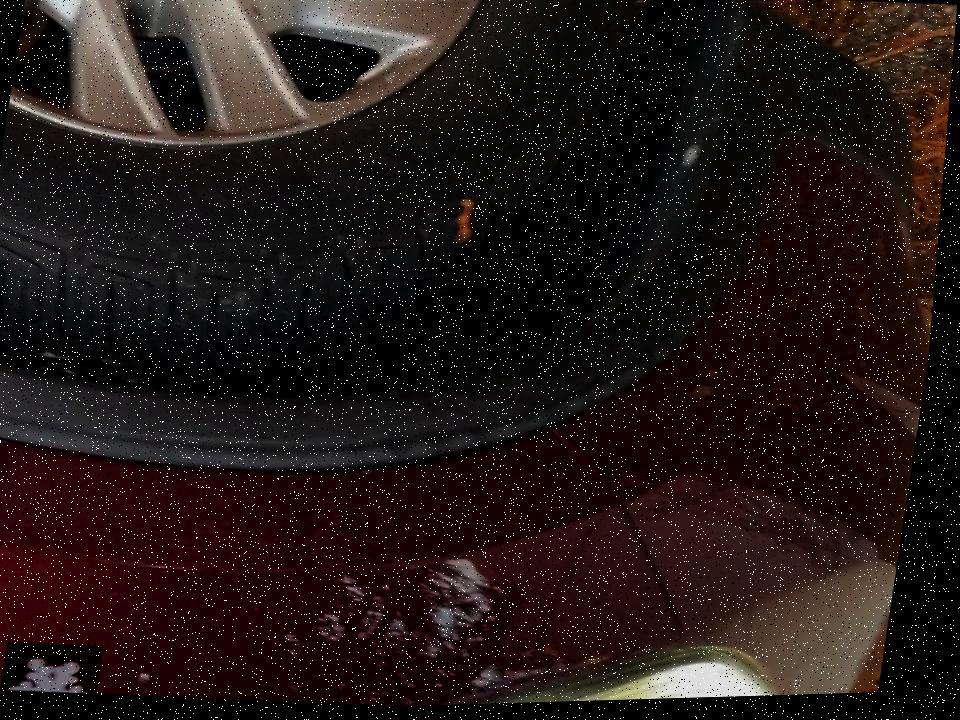dent: (11, 639, 115, 697)
